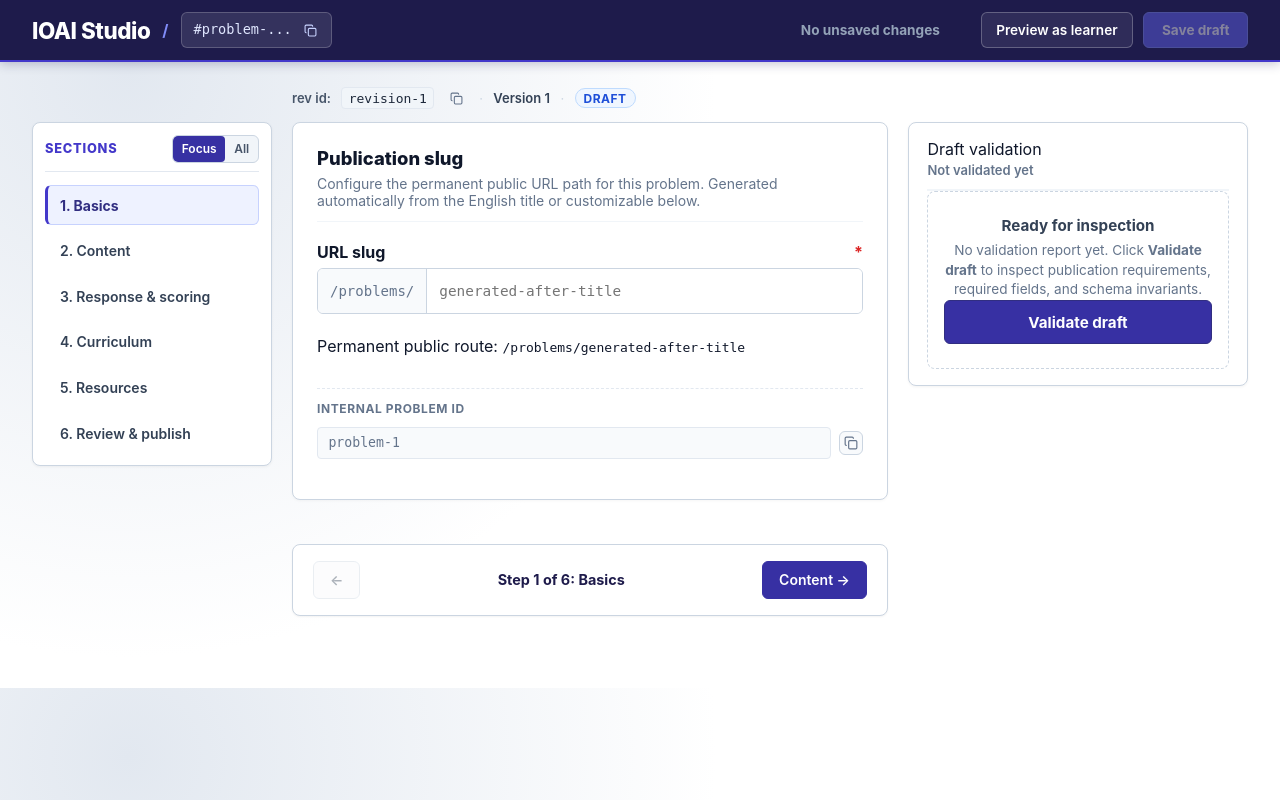
it: draft editor coordinator › coalesces idle changes and keeps a versioned recovery copy on failure
Type "first" into the field labelled "URL slug" at {"x": 645, "y": 291}, box [427, 269, 862, 313]
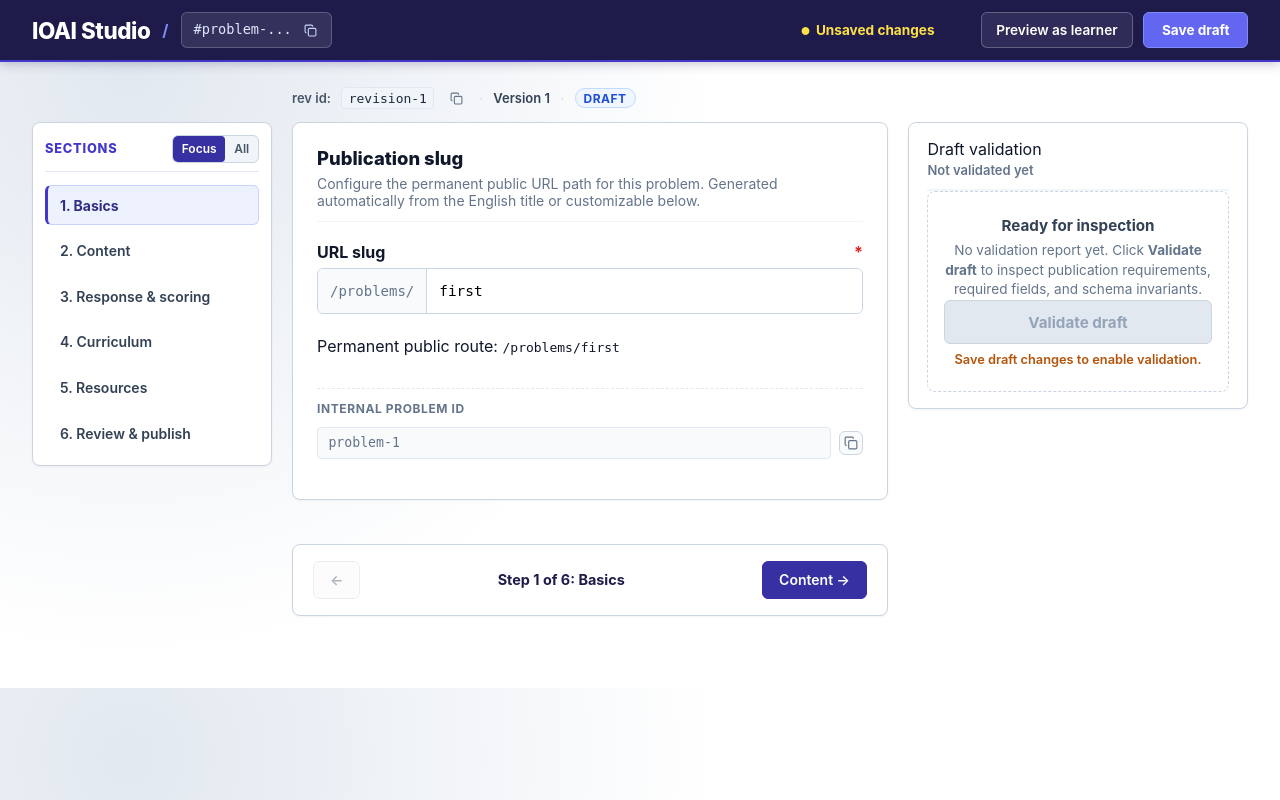
Replace the text in the field labelled "URL slug" with "second" at {"x": 645, "y": 291}, box [427, 269, 862, 313]
Wait 800 ms
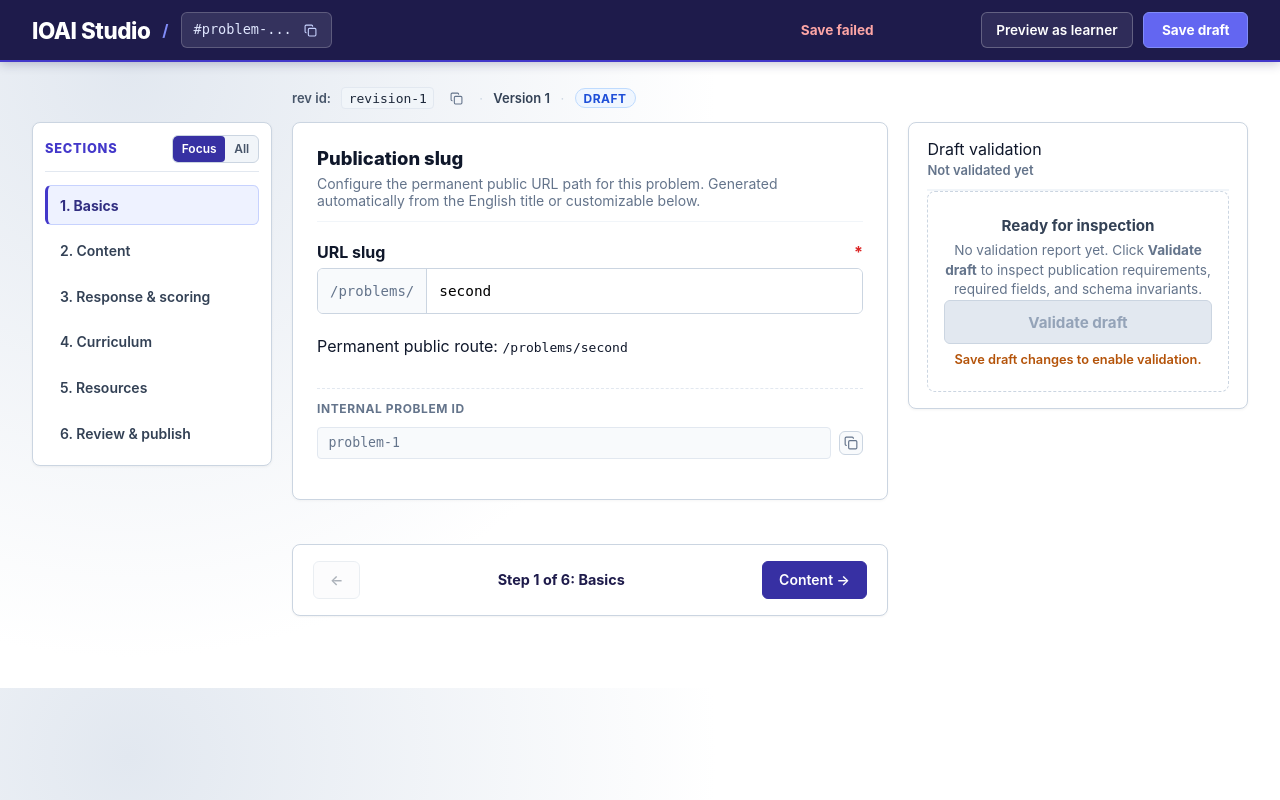
Result: the text "Save failed" is shown at [801, 22, 874, 38]
